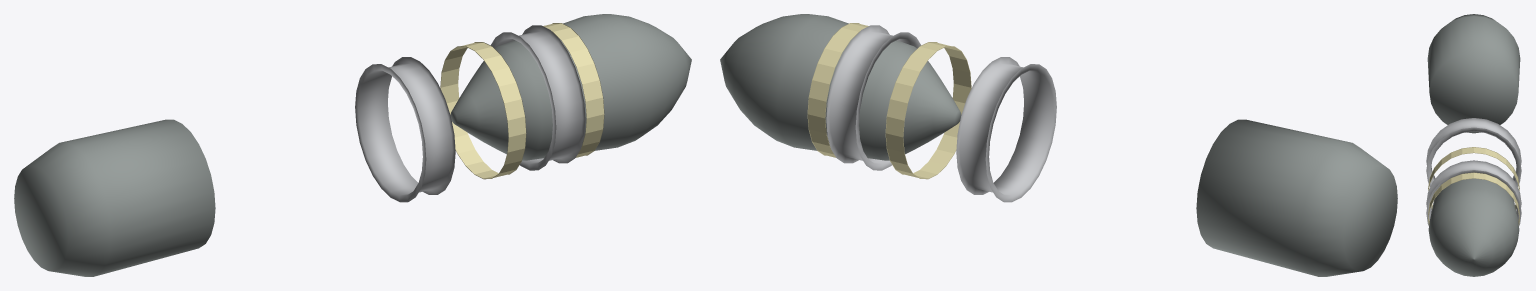
File: US_SLBM_Poseidon_C3_LOD1.fbx
The picture shows the model from 3 angles, left to right: view 1: azimuth 30°, elevation 25°; view 2: azimuth 150°, elevation 25°; view 3: azimuth 270°, elevation 25°; orthographic projection. The views are drawn at different scales.
Visible parts, largest first — view 1: WPN_US_SLBM_Poseidon_C3_LOD1_Tail, WPN_US_SLBM_Poseidon_C3_LOD1_Body, WPN_US_SLBM_Poseidon_C3_LOD1_Detail, WPN_US_SLBM_Poseidon_C3_LOD1_Marking; view 2: WPN_US_SLBM_Poseidon_C3_LOD1_Tail, WPN_US_SLBM_Poseidon_C3_LOD1_Body, WPN_US_SLBM_Poseidon_C3_LOD1_Detail, WPN_US_SLBM_Poseidon_C3_LOD1_Marking; view 3: WPN_US_SLBM_Poseidon_C3_LOD1_Tail, WPN_US_SLBM_Poseidon_C3_LOD1_Body, WPN_US_SLBM_Poseidon_C3_LOD1_Detail, WPN_US_SLBM_Poseidon_C3_LOD1_Marking.
Part boxes in pixels (x1,y1,x2,y2): WPN_US_SLBM_Poseidon_C3_LOD1_Tail: (14, 119, 215, 276); WPN_US_SLBM_Poseidon_C3_LOD1_Body: (450, 14, 691, 160); WPN_US_SLBM_Poseidon_C3_LOD1_Detail: (355, 25, 585, 202); WPN_US_SLBM_Poseidon_C3_LOD1_Marking: (440, 23, 604, 179); WPN_US_SLBM_Poseidon_C3_LOD1_Tail: (1196, 119, 1397, 276); WPN_US_SLBM_Poseidon_C3_LOD1_Body: (720, 14, 961, 160); WPN_US_SLBM_Poseidon_C3_LOD1_Detail: (826, 25, 1056, 202); WPN_US_SLBM_Poseidon_C3_LOD1_Marking: (807, 23, 971, 179); WPN_US_SLBM_Poseidon_C3_LOD1_Tail: (1427, 14, 1520, 133); WPN_US_SLBM_Poseidon_C3_LOD1_Body: (1428, 178, 1519, 276); WPN_US_SLBM_Poseidon_C3_LOD1_Detail: (1426, 118, 1521, 225); WPN_US_SLBM_Poseidon_C3_LOD1_Marking: (1428, 147, 1519, 225).
Size of the model in its own units: 10.4 by 1.97 by 1.97.
